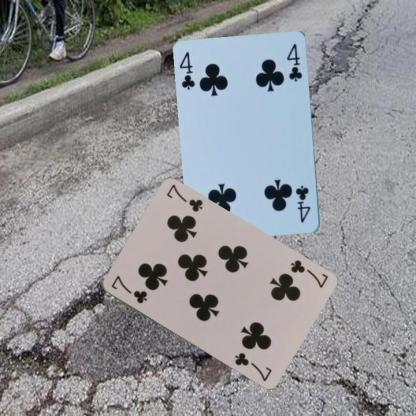4c: (177, 49, 196, 91), (293, 183, 312, 224)
7c: (288, 257, 329, 290), (108, 273, 149, 305)
